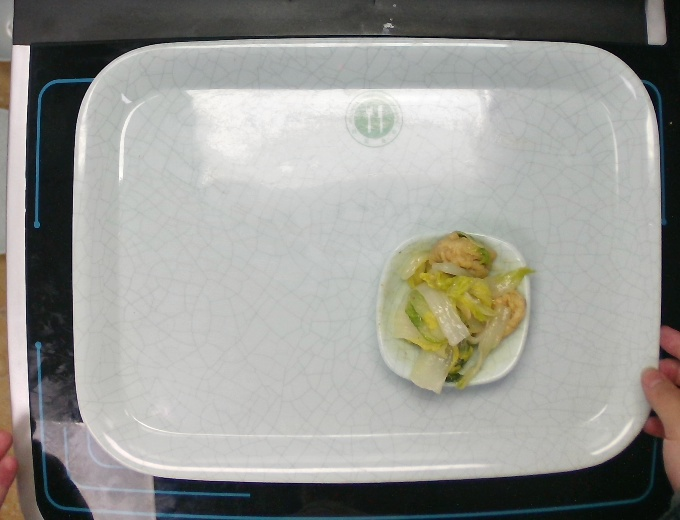JYsf-Si_Fang_Die: (375, 230, 536, 392)
